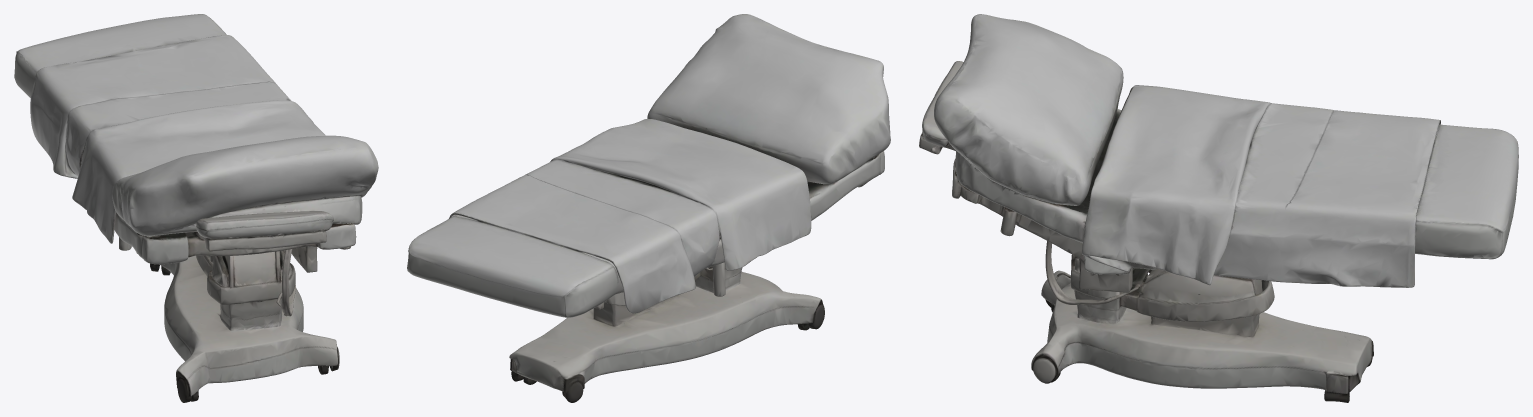
Rendered from maca.glb.
3 views of the same model, side by side, from view 1: azimuth 30°, elevation 25°; view 2: azimuth 150°, elevation 25°; view 3: azimuth 270°, elevation 25° (orthographic). The views are drawn at different scales.
Parts seen in each view (by area): view 1: tripo_node_2213657b-3e83-432a-bcaf-410b2a736da1; view 2: tripo_node_2213657b-3e83-432a-bcaf-410b2a736da1; view 3: tripo_node_2213657b-3e83-432a-bcaf-410b2a736da1.
Part boxes in pixels (x1,y1,x2,y2): tripo_node_2213657b-3e83-432a-bcaf-410b2a736da1: (14,14,378,402); tripo_node_2213657b-3e83-432a-bcaf-410b2a736da1: (407,14,890,402); tripo_node_2213657b-3e83-432a-bcaf-410b2a736da1: (919,14,1518,402).
Bounding box in the file's own units: 1.26 × 1.1 × 2.09.
Materials: 1 (1 with a texture image).
